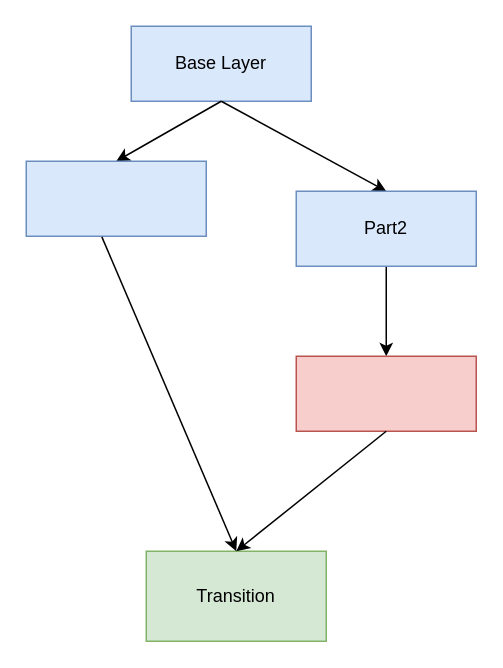
This 503x668 diagram has some shape labels left out. The shapes that lost their labels are listed below. From the top down, each one's box as (x1, y1, x2, y2) in pixels, then its label:
(25, 160, 206, 236): Part1
(295, 355, 476, 431): Dense Block
